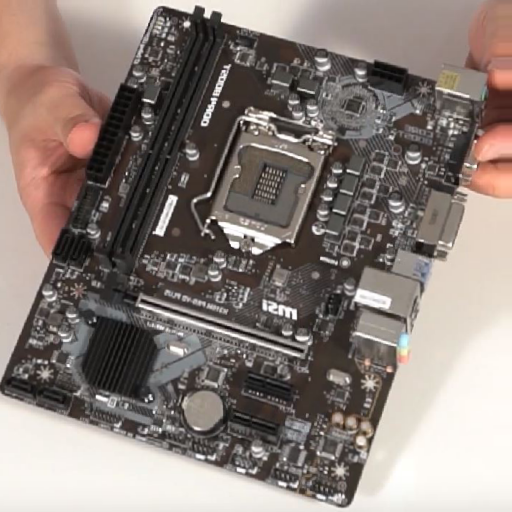CPU: (208, 107, 334, 255)
GPU: (104, 273, 308, 360)
MOTHERBOARD: (1, 12, 484, 508)
RAM: (102, 12, 227, 274)
